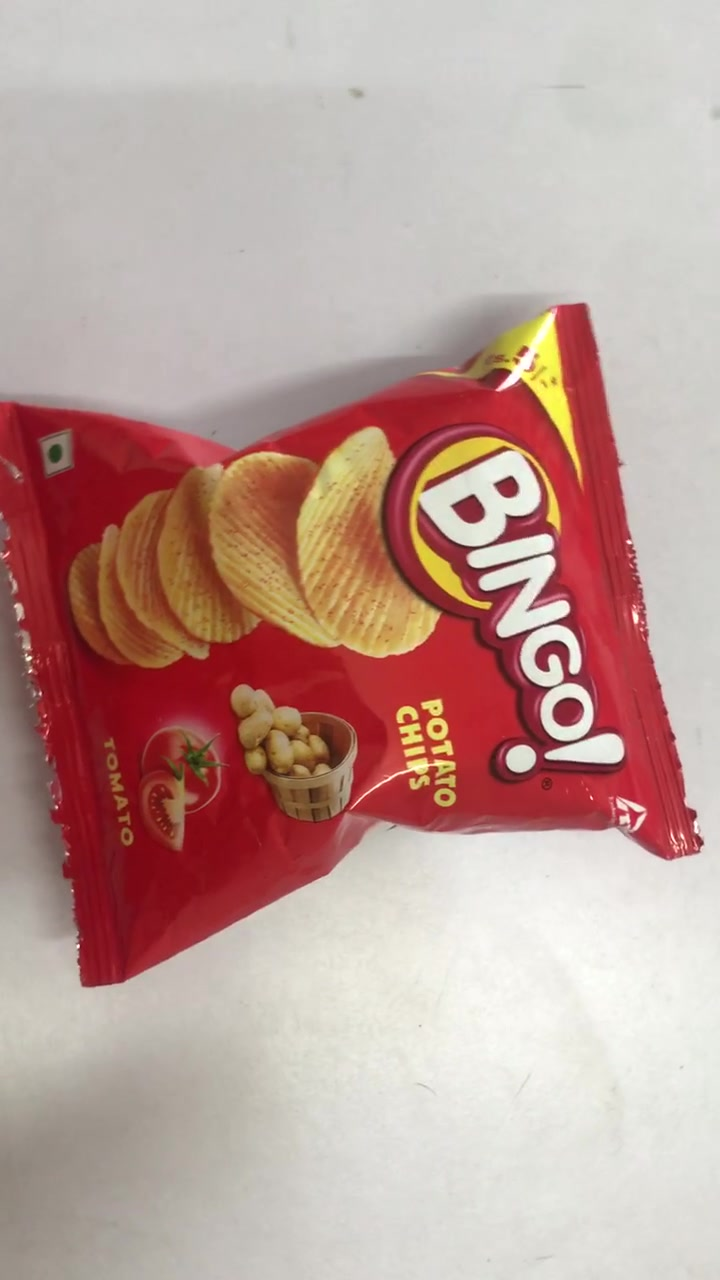Bingo: (6, 323, 691, 991)
